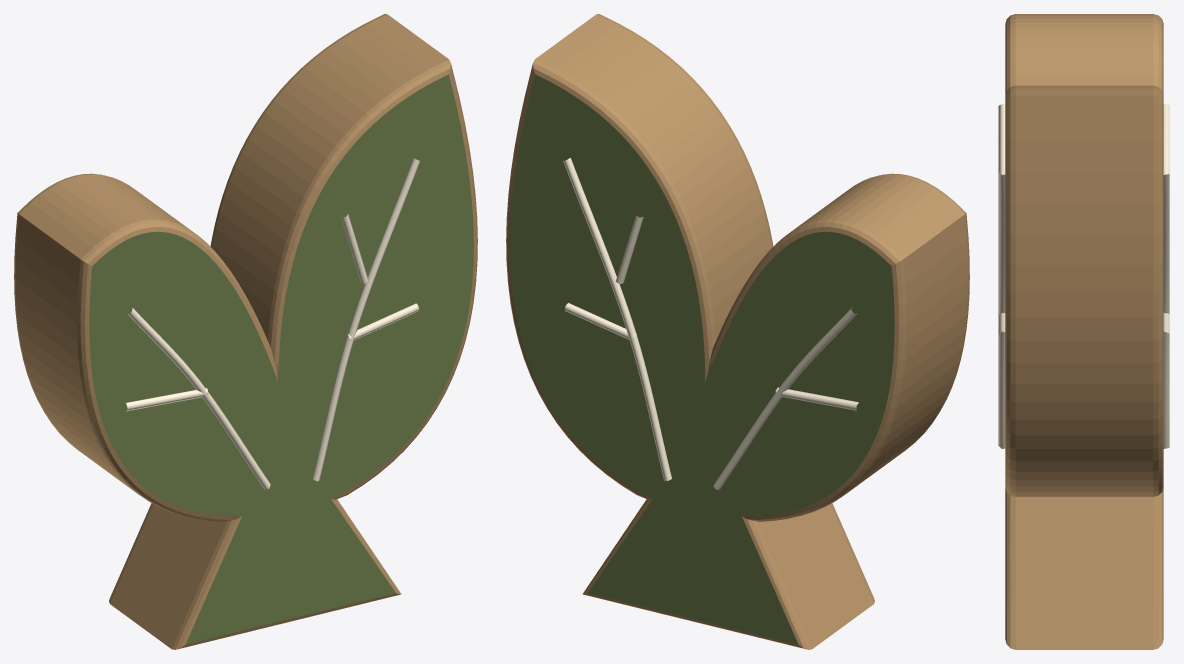
Rendered from meeple-6.glb.
3 renders of one model, left to right at view 1: azimuth 30°, elevation 25°; view 2: azimuth 150°, elevation 25°; view 3: azimuth 270°, elevation 25°, orthographic. The views are drawn at different scales.
Parts seen in each view (by area): view 1: meeple-6-명이 잎; view 2: meeple-6-명이 잎; view 3: meeple-6-명이 잎.
Part boxes in pixels (box(x1,y1,x2,y2)): meeple-6-명이 잎: box(14, 14, 477, 649); meeple-6-명이 잎: box(506, 14, 969, 649); meeple-6-명이 잎: box(998, 14, 1169, 649).
Bounding box in the file's own units: 0.024 × 0.03 × 0.008.
